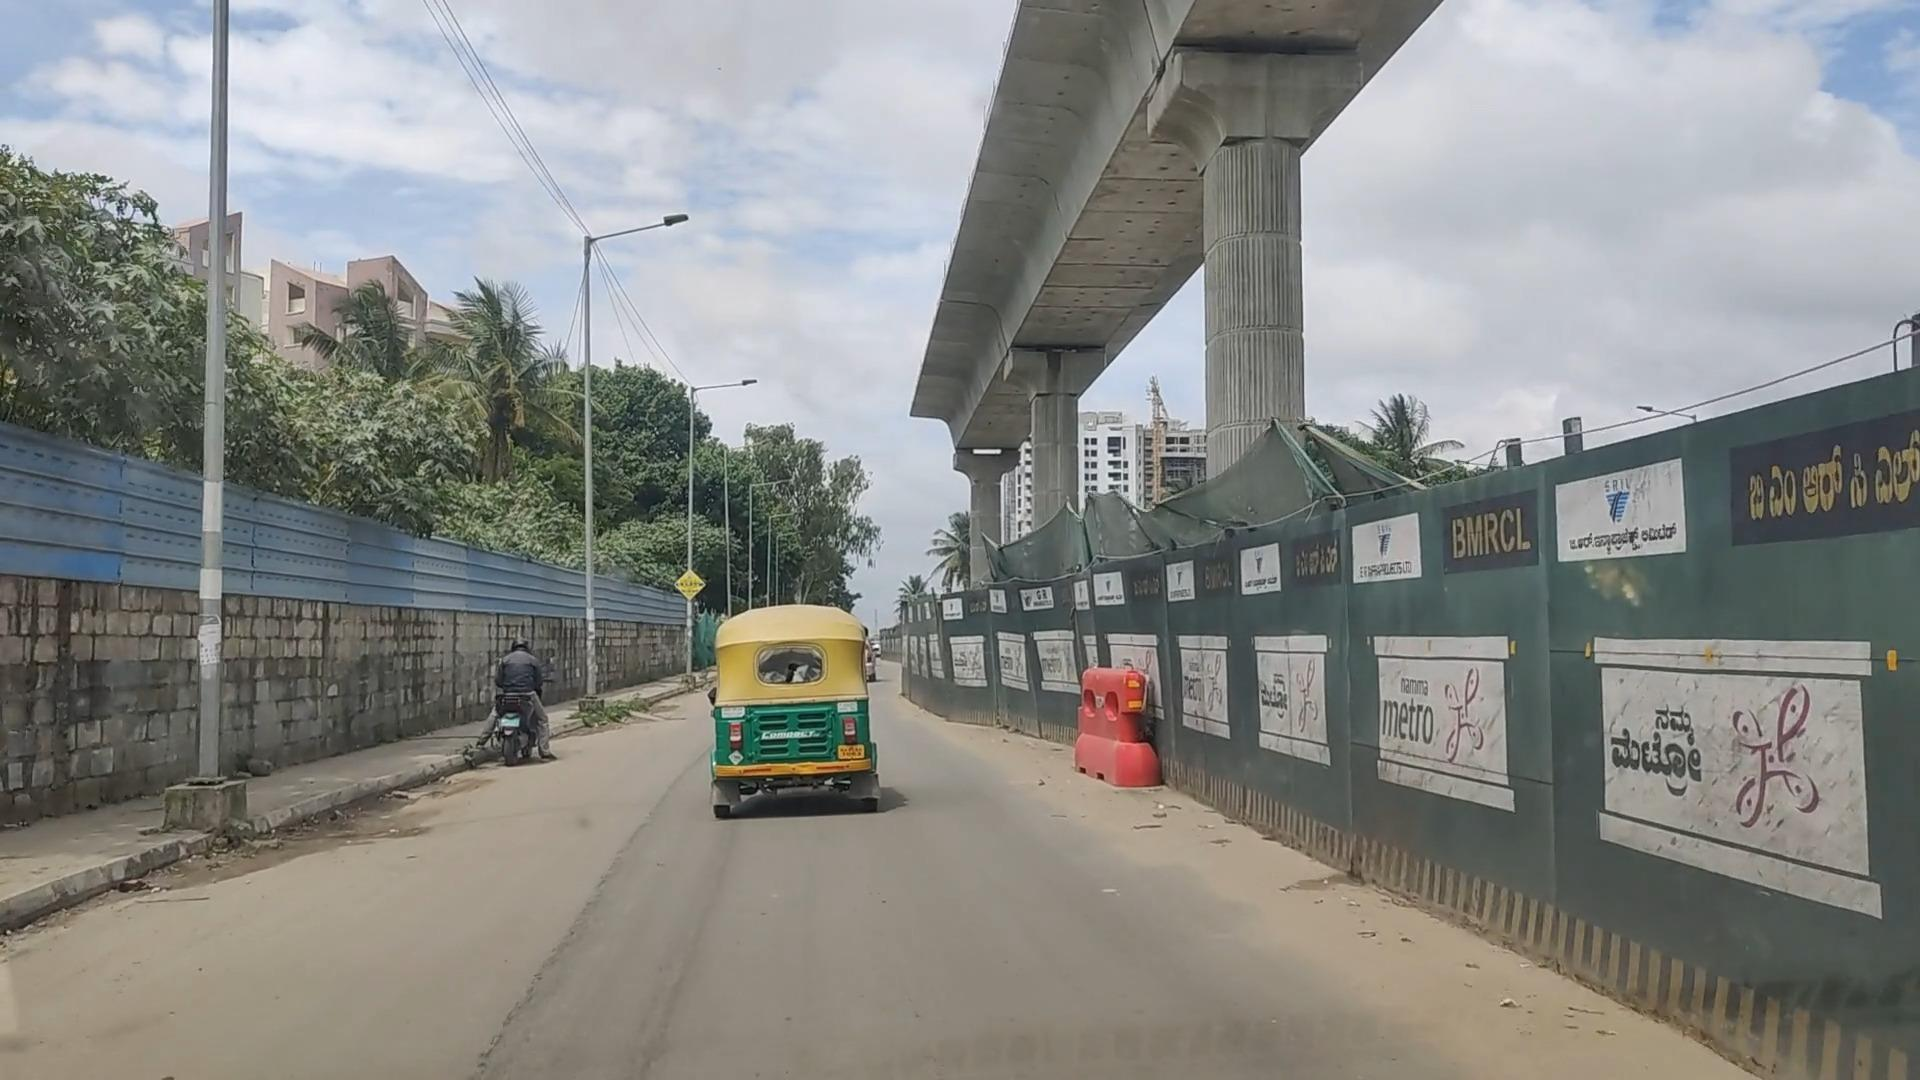LMV: (682, 591, 885, 837), (481, 624, 560, 778)
